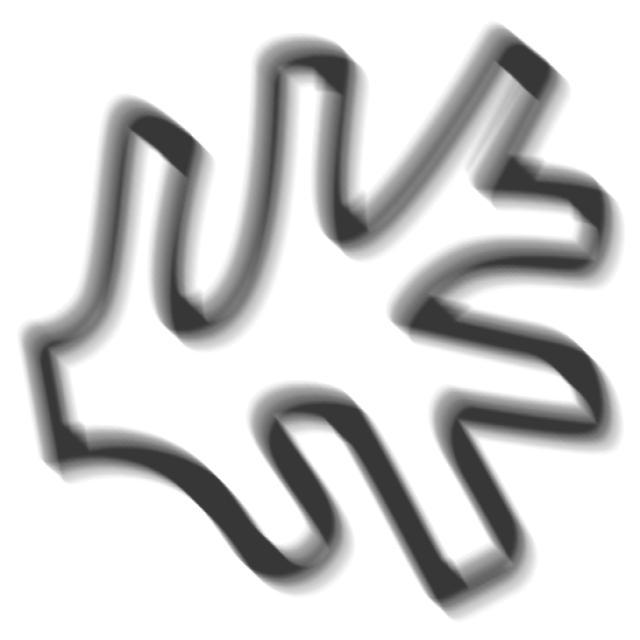coral: (12, 18, 631, 633)
